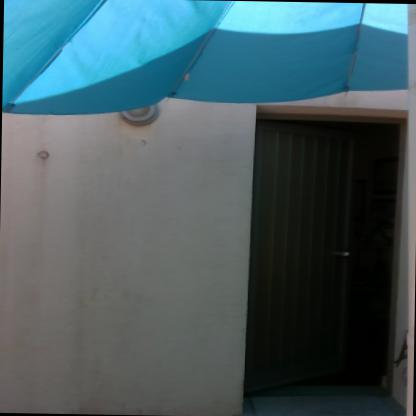semi: (240, 85, 415, 410)
